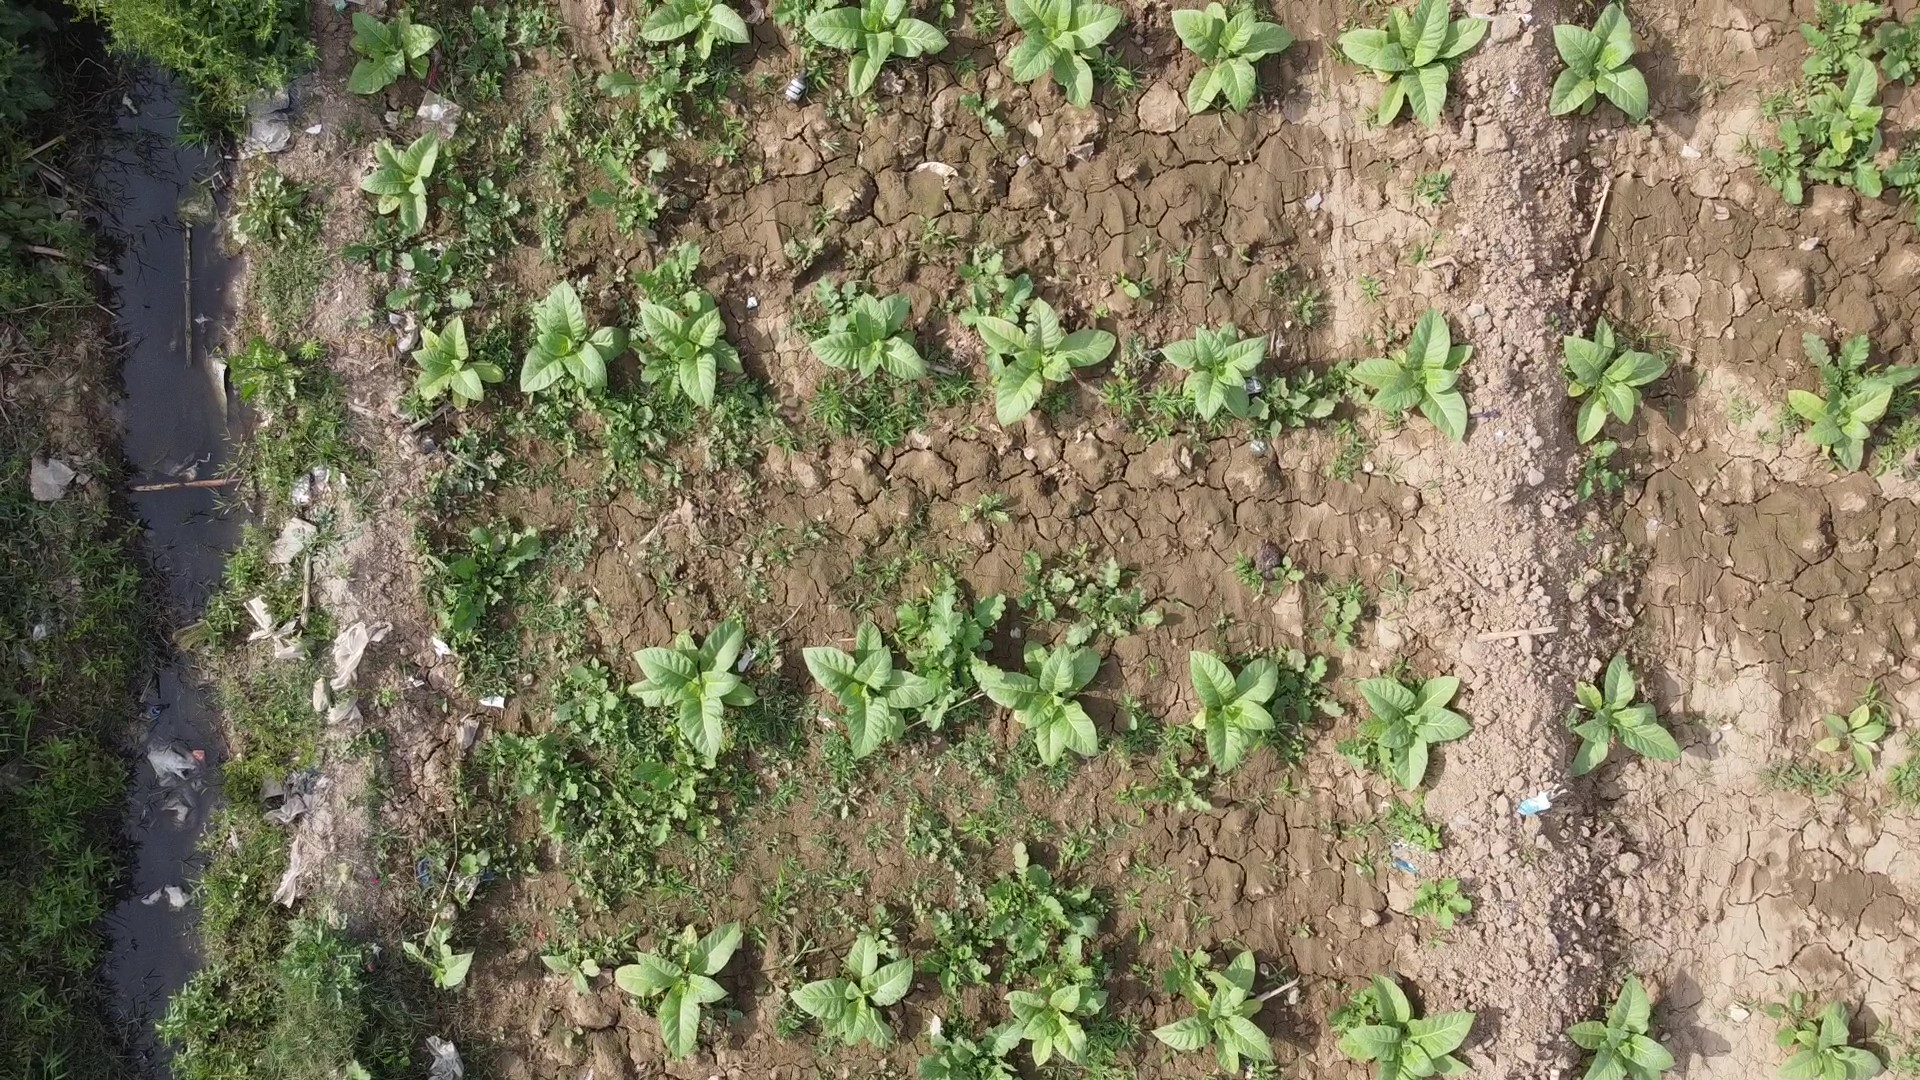weed: (1339, 0, 1488, 128), (975, 297, 1117, 427), (630, 620, 764, 757), (803, 621, 930, 760), (615, 922, 742, 1058), (1349, 311, 1473, 441), (1151, 947, 1272, 1073), (1336, 973, 1475, 1080), (983, 640, 1100, 766), (790, 934, 914, 1047), (804, 0, 949, 96), (1171, 2, 1294, 114), (1358, 676, 1475, 792), (1572, 655, 1682, 776), (1565, 316, 1666, 443), (1005, 0, 1123, 108), (638, 292, 744, 411), (519, 279, 628, 392), (1549, 3, 1648, 118), (1569, 975, 1676, 1080), (1190, 651, 1279, 772), (1159, 323, 1266, 421), (809, 293, 927, 380), (1785, 385, 1893, 470), (412, 317, 504, 412), (1005, 986, 1110, 1066), (1778, 1000, 1881, 1080), (361, 127, 439, 228), (347, 13, 442, 94), (1810, 57, 1882, 152), (642, 0, 750, 60), (541, 954, 593, 994), (433, 950, 474, 986)
